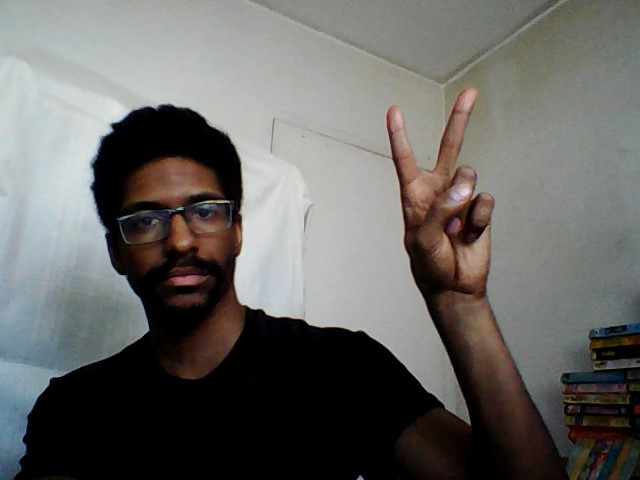v: (379, 83, 499, 306)
